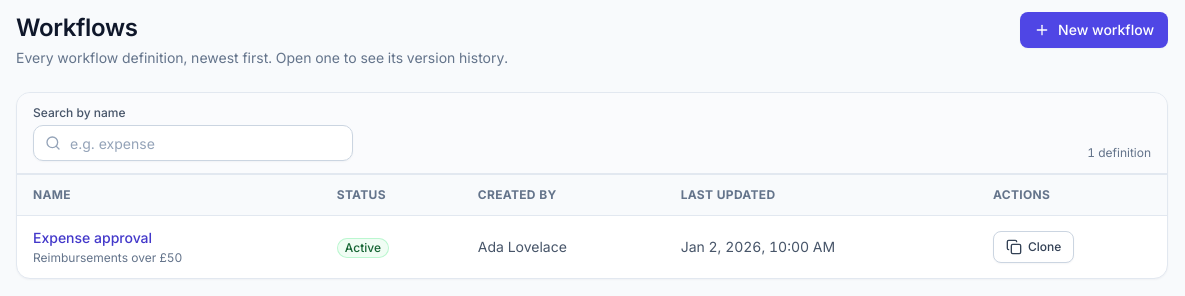
Scenario: WorkflowList › filters through the backend's name parameter rather than in the browser
Check: the column heading "Expense approval Reimbursements over £50" is shown, box [17,216,321,278]
Type "leave" into the search field labelled "Search by name". click: x=193, y=143
box: [33,125,353,161]
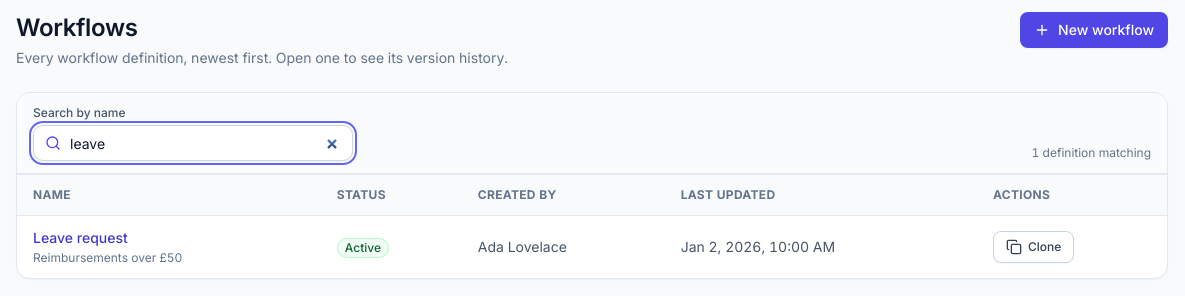
Check: the column heading "Leave request Reimbursements over £50" is shown, box [17,216,321,278]
Check: the link "Expense approval" is gone
